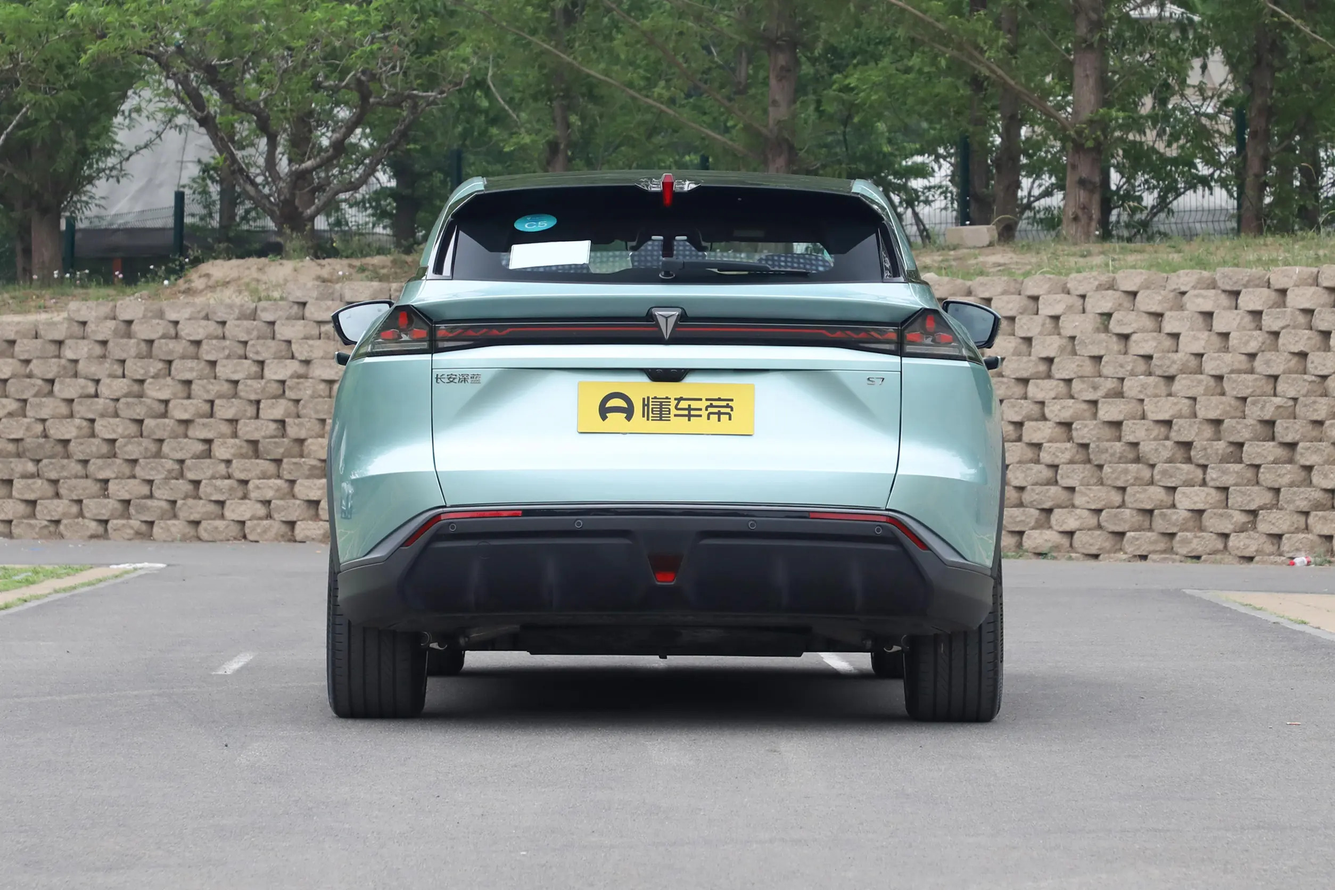Deepal: (655, 311, 678, 339)
